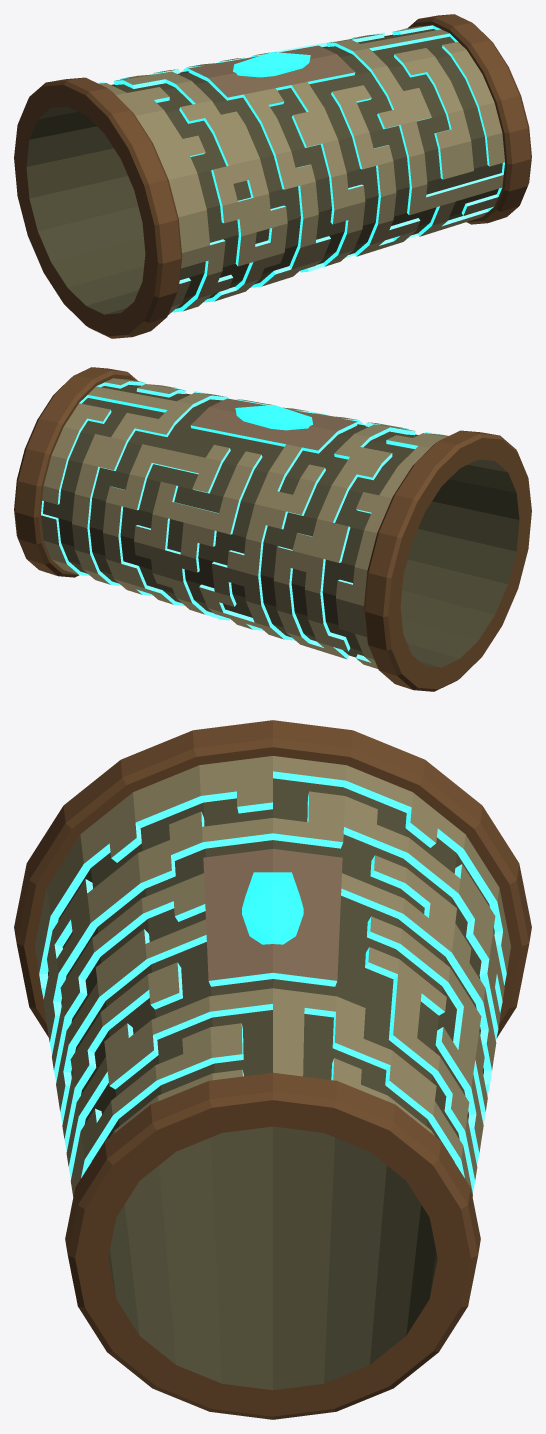
The picture shows the model from 3 angles, top to bottom: view 1: azimuth 30°, elevation 25°; view 2: azimuth 150°, elevation 25°; view 3: azimuth 270°, elevation 25°; orthographic projection. The views are drawn at different scales.
Visible parts, largest first — view 1: Cylinder, Icosphere; view 2: Cylinder, Icosphere; view 3: Cylinder, Icosphere.
Part boxes in pixels (x1,y1,x2,y2): Cylinder: [14, 14, 531, 338]; Icosphere: [233, 52, 310, 77]; Cylinder: [14, 367, 531, 691]; Icosphere: [235, 405, 312, 430]; Cylinder: [14, 720, 531, 1419]; Icosphere: [242, 872, 303, 944].
Bounding box in the file's own units: 320 × 185 × 210.
